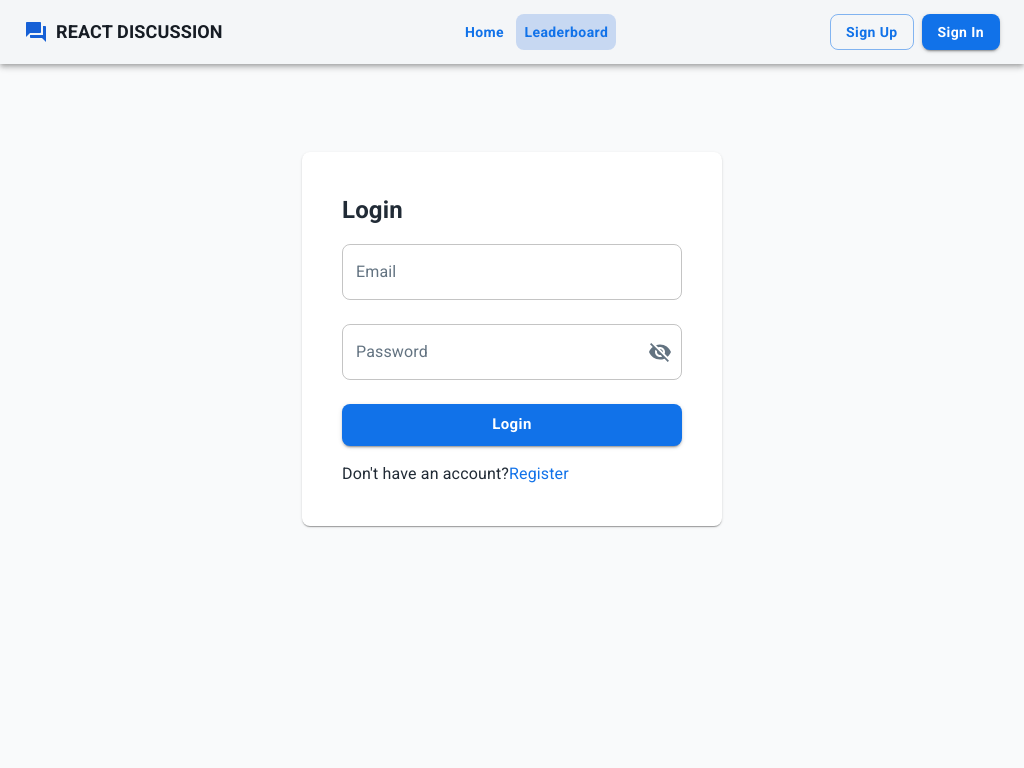
Test: Login spec › should display error message when email & password is empty
The image size is (1024, 768).
klik tombol login tanpa mengisi email dan password
Click the button "Login" at x=512, y=425, box [342,404,682,446]
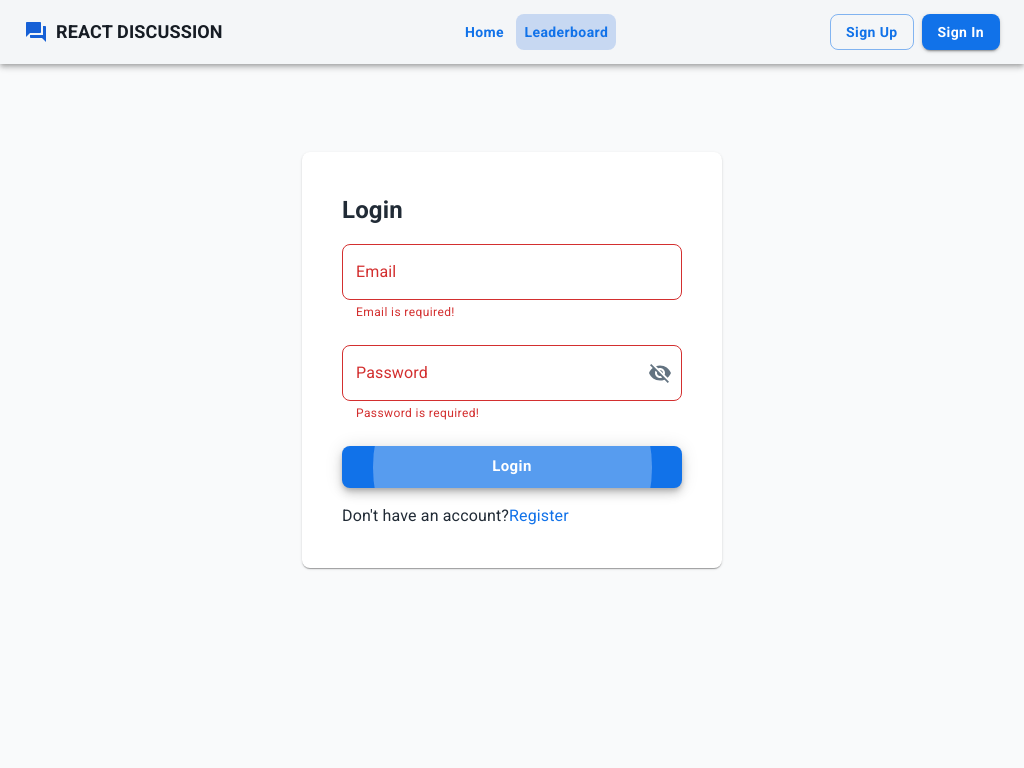
Now the text "Email is required!" is shown, box [356,305,455,319]
Now the text "Password is required!" is shown, box [356,406,479,420]
